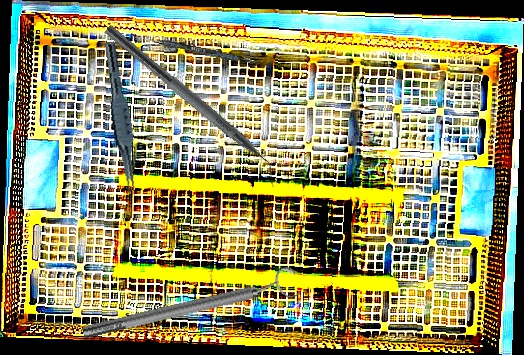Chopper: (94, 23, 289, 190)
Fixation Ring: (78, 264, 302, 349)
Spatula Surgical: (129, 32, 267, 68)
Tissue Forceps: (95, 41, 146, 197)
